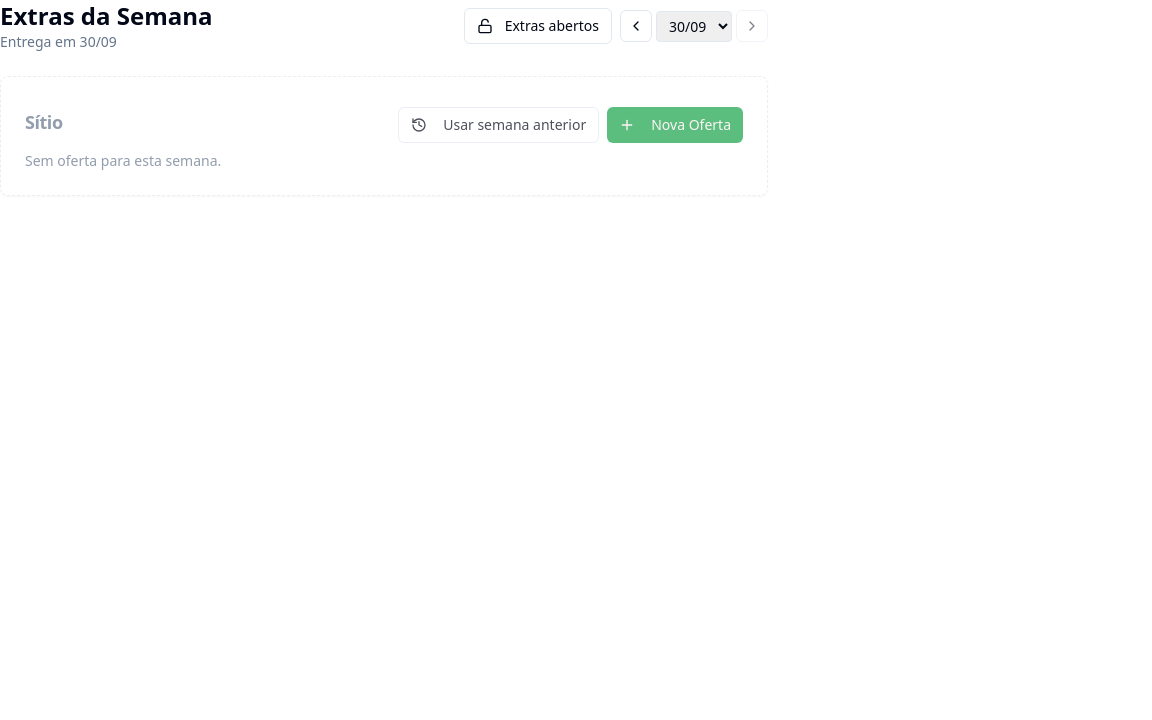
Test: OfertasPage — montagem da oferta › preço que veio na mensagem não é sobrescrito pelo catálogo
The width and height of the screenshot is (1152, 720).
Click the button "Nova Oferta".
click(675, 125)  # box [607,107,743,143]
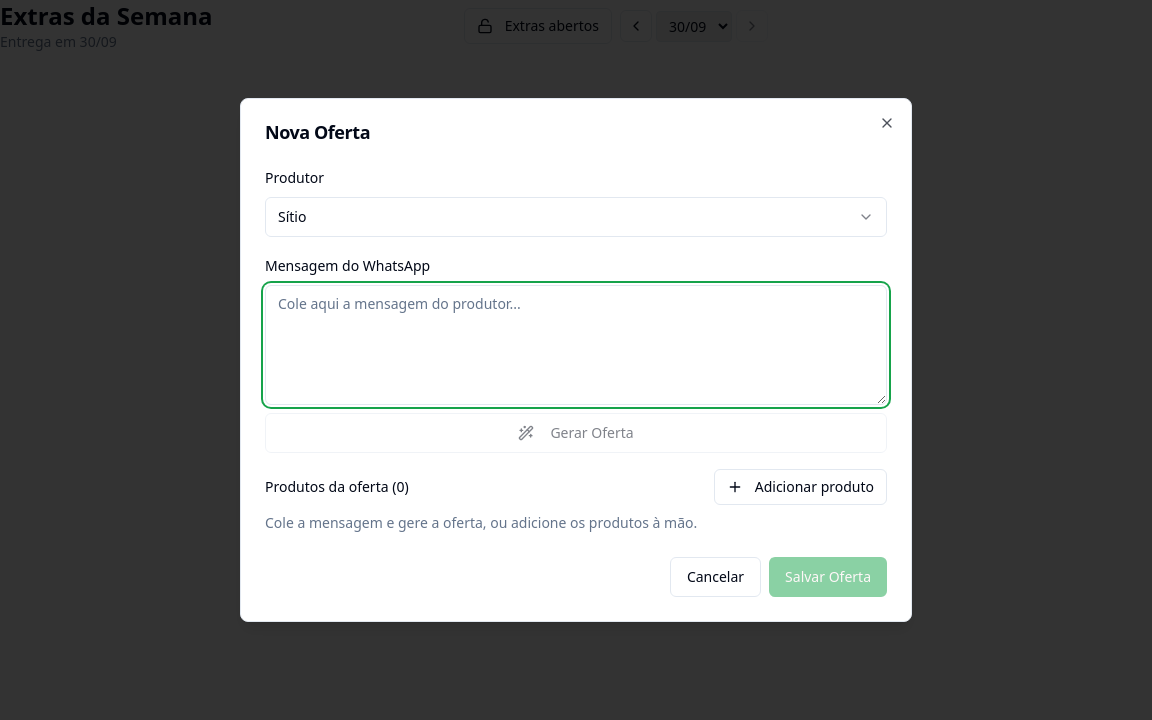
Type "Macaxeira Natural kg R$4,00" into the text box with placeholder "Cole aqui a mensagem do produtor...".
click(576, 345); type("Macaxeira Natural kg R$4,00")  # box [265,285,887,405]
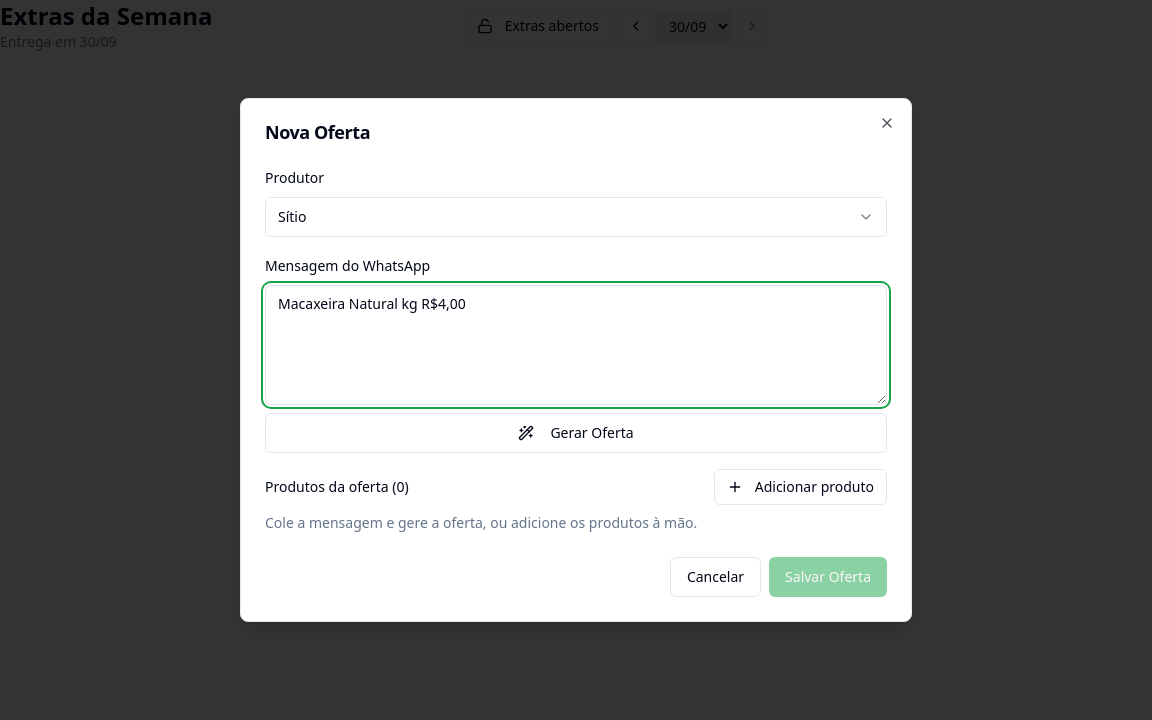
Click the button "Gerar Oferta".
click(576, 433)  # box [265,413,887,453]
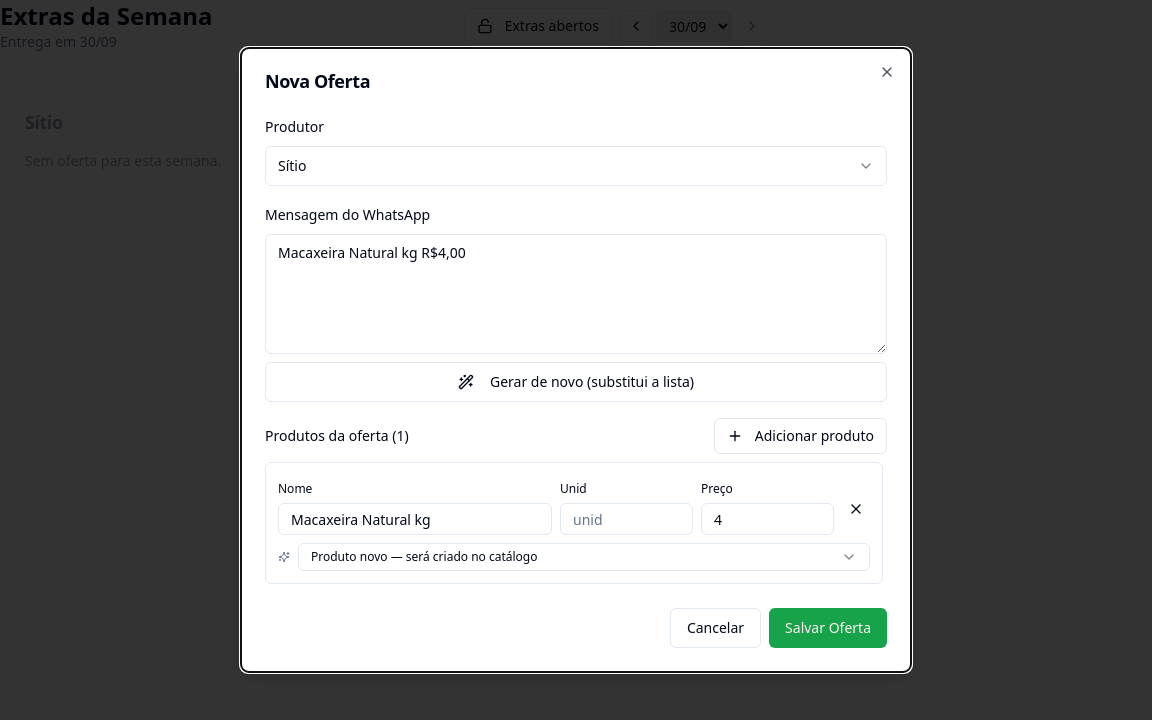
Clear the field showing "Macaxeira Natural kg" at x=415, y=519, box [278,503,552,535]
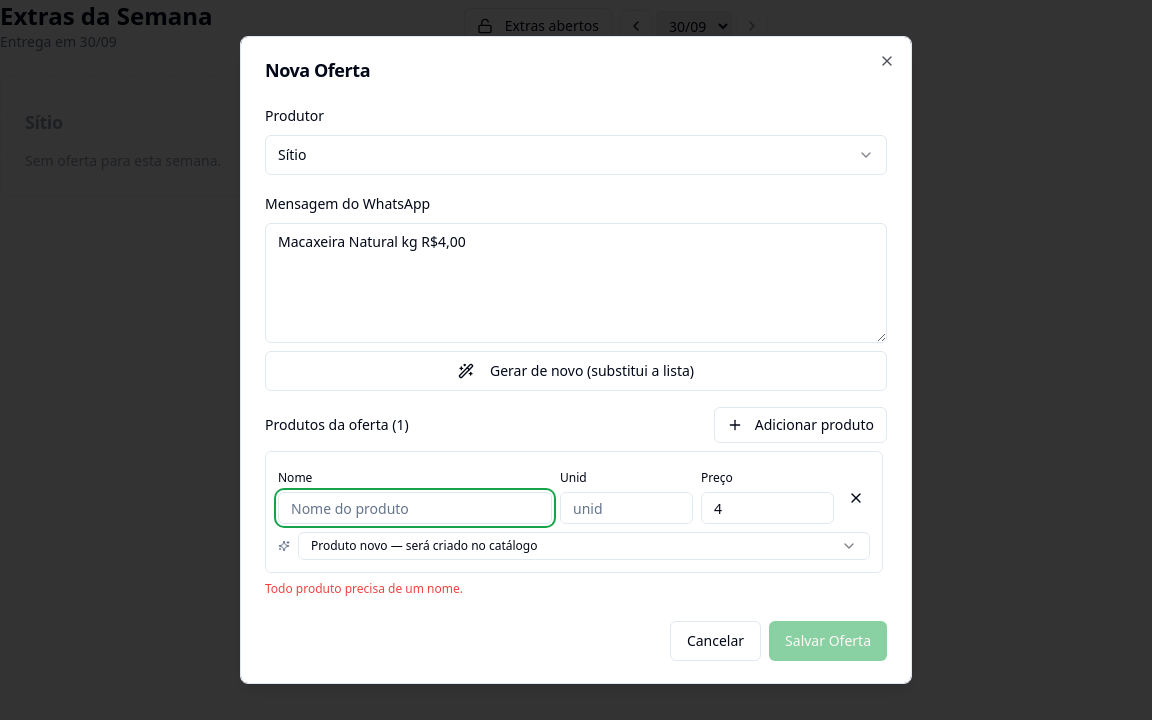
Type "Macaxeira" into the field showing "Macaxeira Natural kg".
click(415, 508); type("Macaxeira")  # box [278,492,552,524]
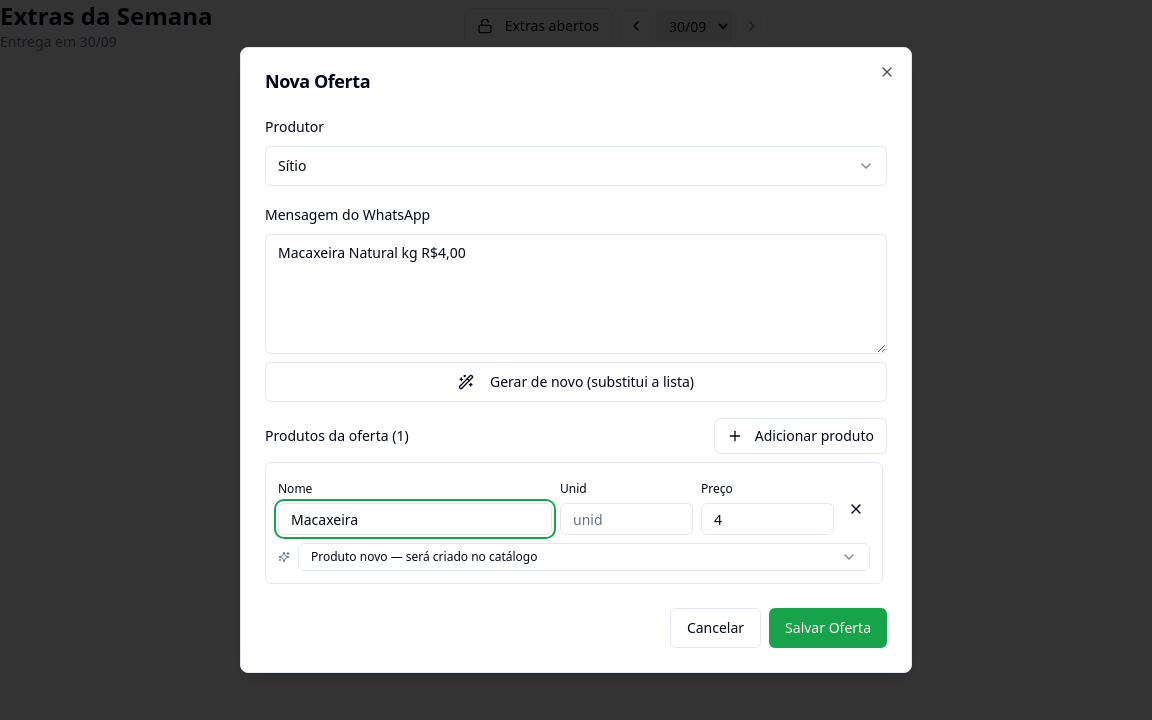
Press Tab
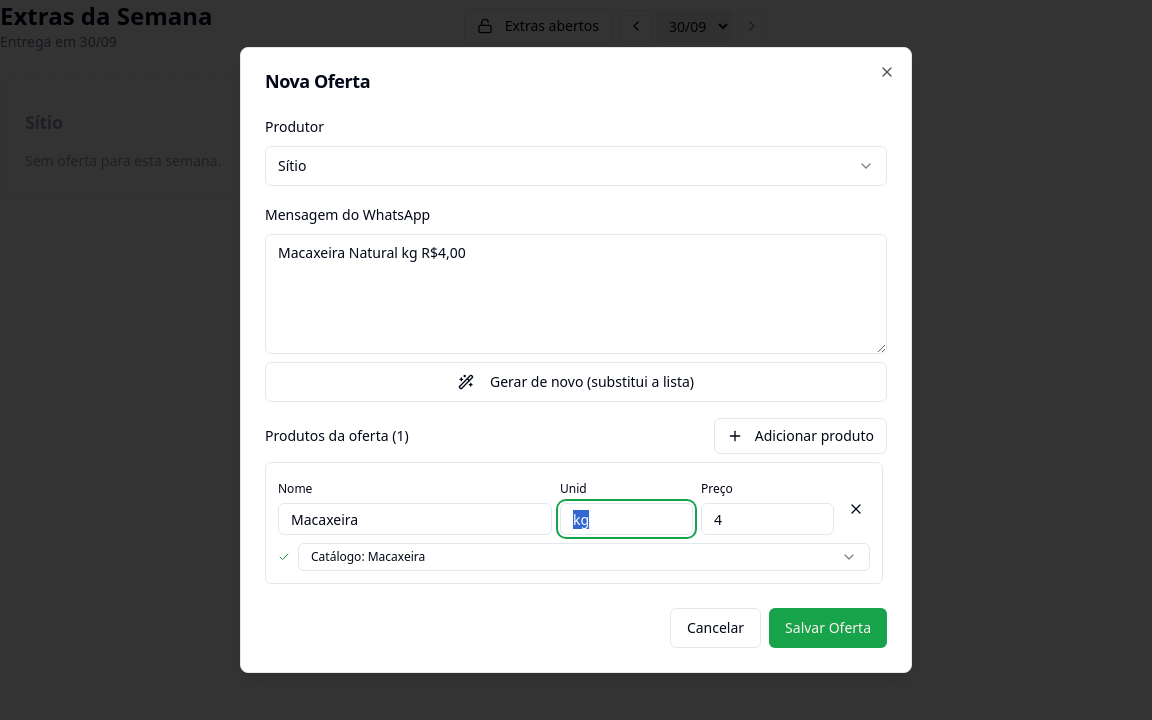
Now the number field showing "4" is shown, box [701,503,834,535]
Now the text "Catálogo: Macaxeira" is shown, box [311,549,425,565]
